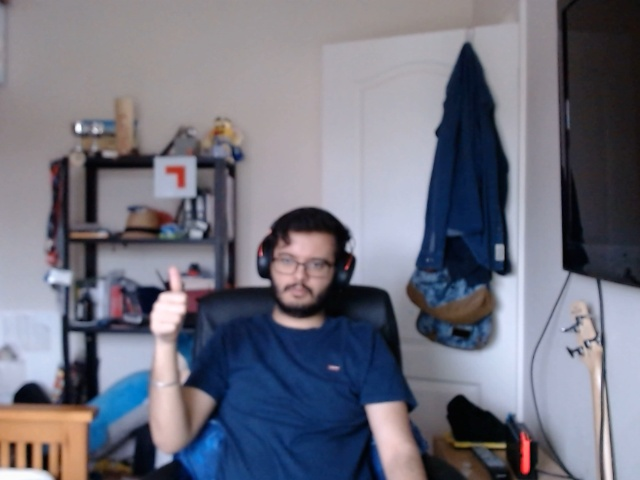Thumbs up: (148, 255, 195, 344)
